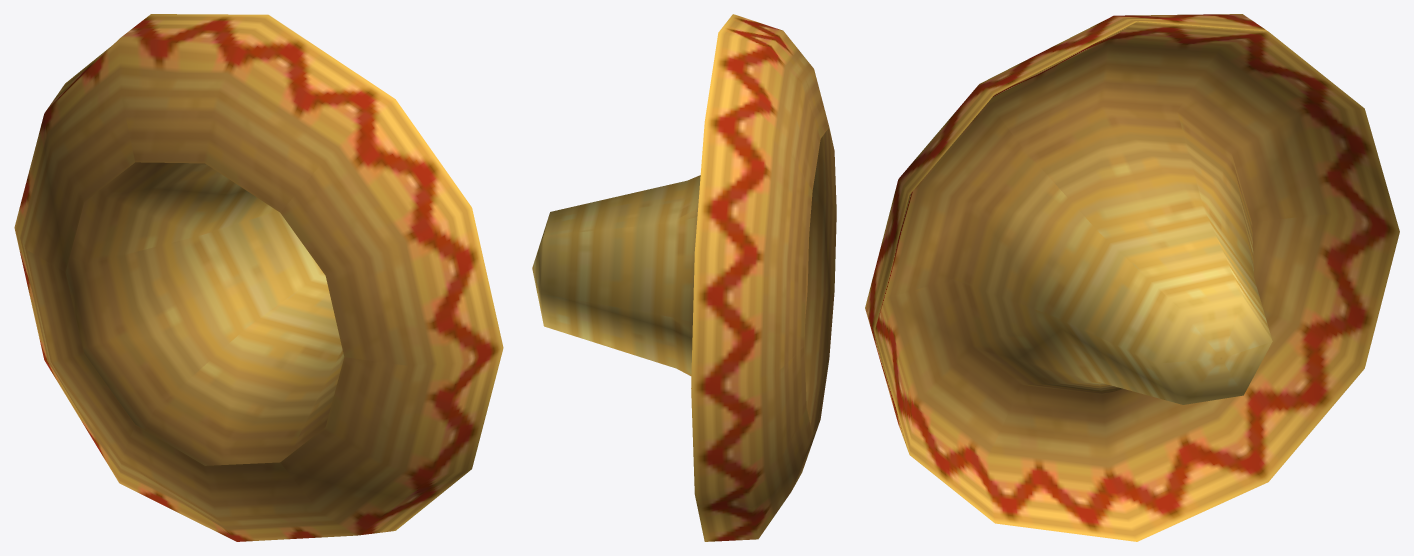
File: cap_sombrero.dae
3 views of the same model, side by side, from view 1: azimuth 30°, elevation 25°; view 2: azimuth 150°, elevation 25°; view 3: azimuth 270°, elevation 25° (orthographic). The views are drawn at different scales.
Visible parts, largest first — view 1: cap_sombrero; view 2: cap_sombrero; view 3: cap_sombrero.
Boxes of the visible parts, <box> form: cap_sombrero: <box>14,14,503,541</box>; cap_sombrero: <box>532,14,836,541</box>; cap_sombrero: <box>865,14,1399,541</box>.
Bounding box in the file's own units: 23.6 × 36.56 × 34.07.
1 material, 1 textured.
